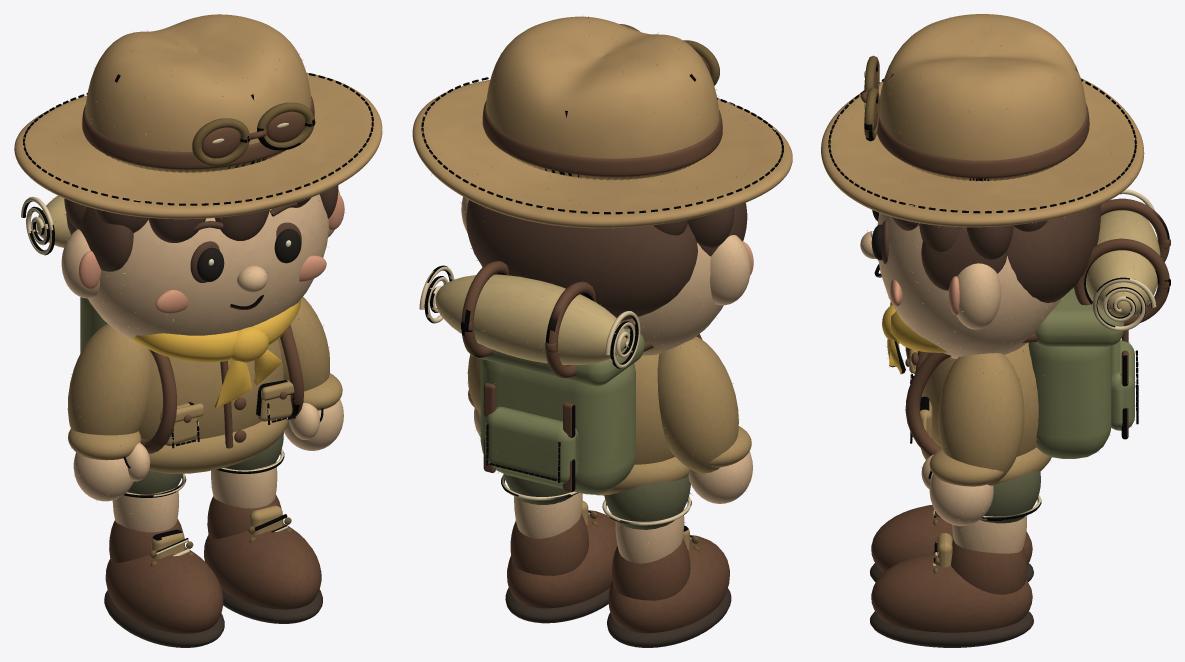
Rendered from scout.glb.
3 views of the same model, side by side, from view 1: azimuth 30°, elevation 25°; view 2: azimuth 150°, elevation 25°; view 3: azimuth 270°, elevation 25° (orthographic). The views are drawn at different scales.
Visible parts, largest first — view 1: Mesh / CTRL / hat, Mesh / CTRL / head, Mesh / CTRL / body, Mesh / CTRL / arm -1, Mesh / CTRL / boot -1, Mesh / CTRL / boot 1, Mesh / CTRL / arm 1, Mesh / CTRL / leg -1, Mesh / CTRL / leg 1, Mesh / CTRL / backpack; view 2: Mesh / CTRL / hat, Mesh / CTRL / backpack, Mesh / CTRL / head, Mesh / CTRL / arm -1, Mesh / CTRL / boot -1, Mesh / CTRL / boot 1, Mesh / CTRL / body, Mesh / CTRL / leg -1, Mesh / CTRL / leg 1, Mesh / CTRL / arm 1; view 3: Mesh / CTRL / hat, Mesh / CTRL / head, Mesh / CTRL / backpack, Mesh / CTRL / boot 1, Mesh / CTRL / arm 1, Mesh / CTRL / body, Mesh / CTRL / leg 1, Mesh / CTRL / boot -1.
Boxes of the visible parts, left/top/right/bottom form: Mesh / CTRL / hat: left=14, top=14, right=382, bottom=219; Mesh / CTRL / head: left=61, top=185, right=344, bottom=340; Mesh / CTRL / body: left=131, top=300, right=303, bottom=473; Mesh / CTRL / arm -1: left=67, top=324, right=150, bottom=501; Mesh / CTRL / boot -1: left=104, top=519, right=224, bottom=647; Mesh / CTRL / boot 1: left=204, top=495, right=322, bottom=623; Mesh / CTRL / arm 1: left=278, top=297, right=343, bottom=450; Mesh / CTRL / leg -1: left=112, top=470, right=186, bottom=532; Mesh / CTRL / leg 1: left=211, top=432, right=284, bottom=508; Mesh / CTRL / backpack: left=21, top=195, right=107, bottom=353; Mesh / CTRL / hat: left=412, top=16, right=792, bottom=228; Mesh / CTRL / backpack: left=419, top=261, right=644, bottom=494; Mesh / CTRL / head: left=461, top=197, right=753, bottom=355; Mesh / CTRL / arm -1: left=657, top=336, right=752, bottom=503; Mesh / CTRL / boot -1: left=607, top=525, right=731, bottom=647; Mesh / CTRL / boot 1: left=505, top=501, right=617, bottom=623; Mesh / CTRL / body: left=483, top=334, right=702, bottom=495; Mesh / CTRL / leg -1: left=602, top=476, right=691, bottom=563; Mesh / CTRL / leg 1: left=501, top=473, right=582, bottom=538; Mesh / CTRL / arm 1: left=467, top=354, right=481, bottom=436; Mesh / CTRL / hat: left=821, top=14, right=1144, bottom=227; Mesh / CTRL / head: left=860, top=205, right=1100, bottom=358; Mesh / CTRL / backpack: left=1028, top=189, right=1170, bottom=458; Mesh / CTRL / boot 1: left=870, top=533, right=1033, bottom=647; Mesh / CTRL / arm 1: left=921, top=353, right=1024, bottom=525; Mesh / CTRL / body: left=882, top=301, right=1128, bottom=484; Mesh / CTRL / leg 1: left=952, top=471, right=1041, bottom=553; Mesh / CTRL / boot -1: left=870, top=505, right=1033, bottom=582.
Size of the model in its own units: 1.38 by 2.26 by 1.26.
Materials: 63 (16 with a texture image).
